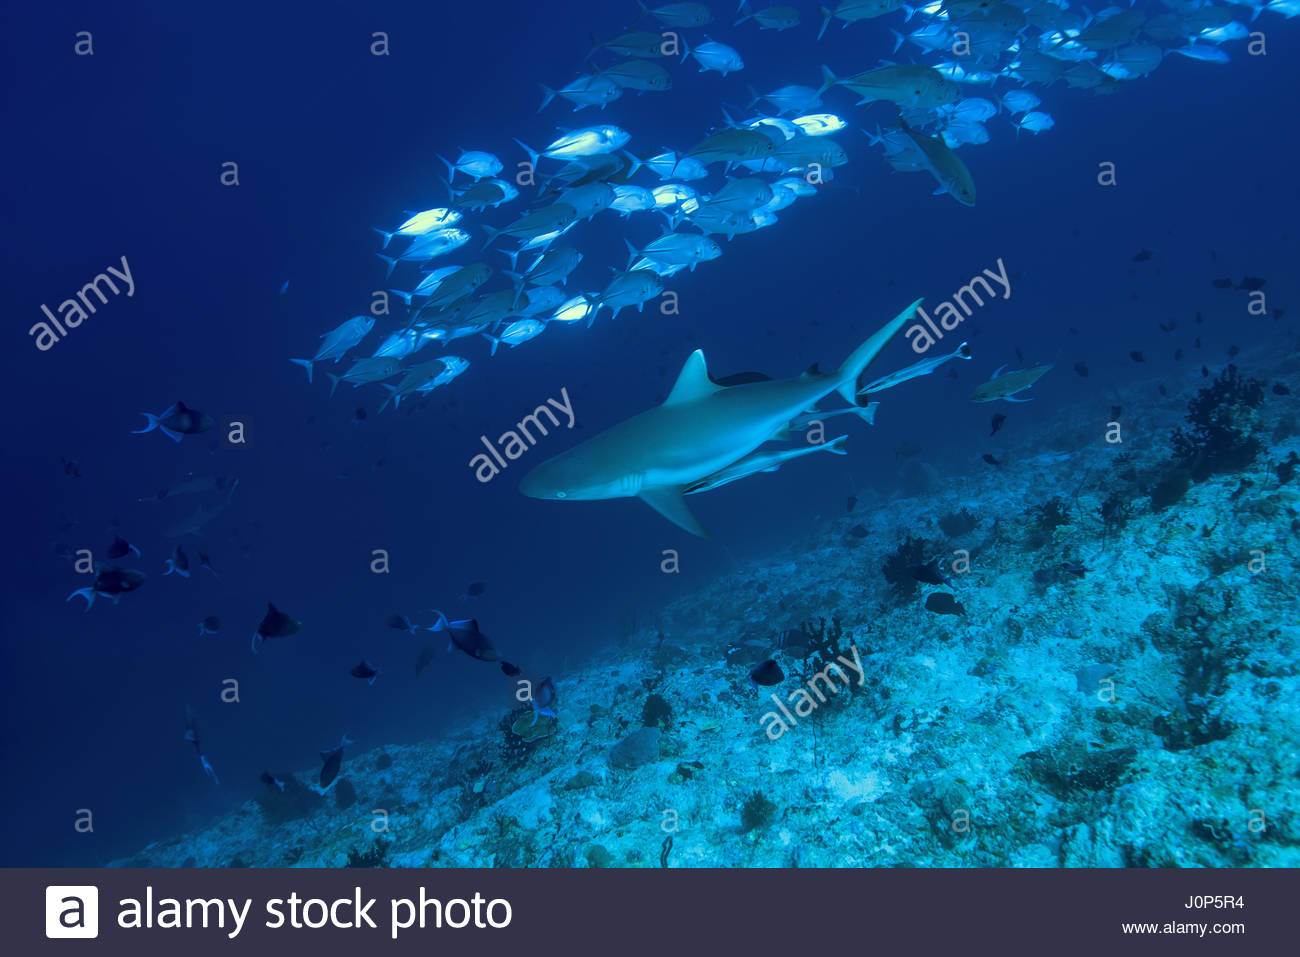Carcharhinus_amblyrhynchos: (512, 347, 964, 557)
